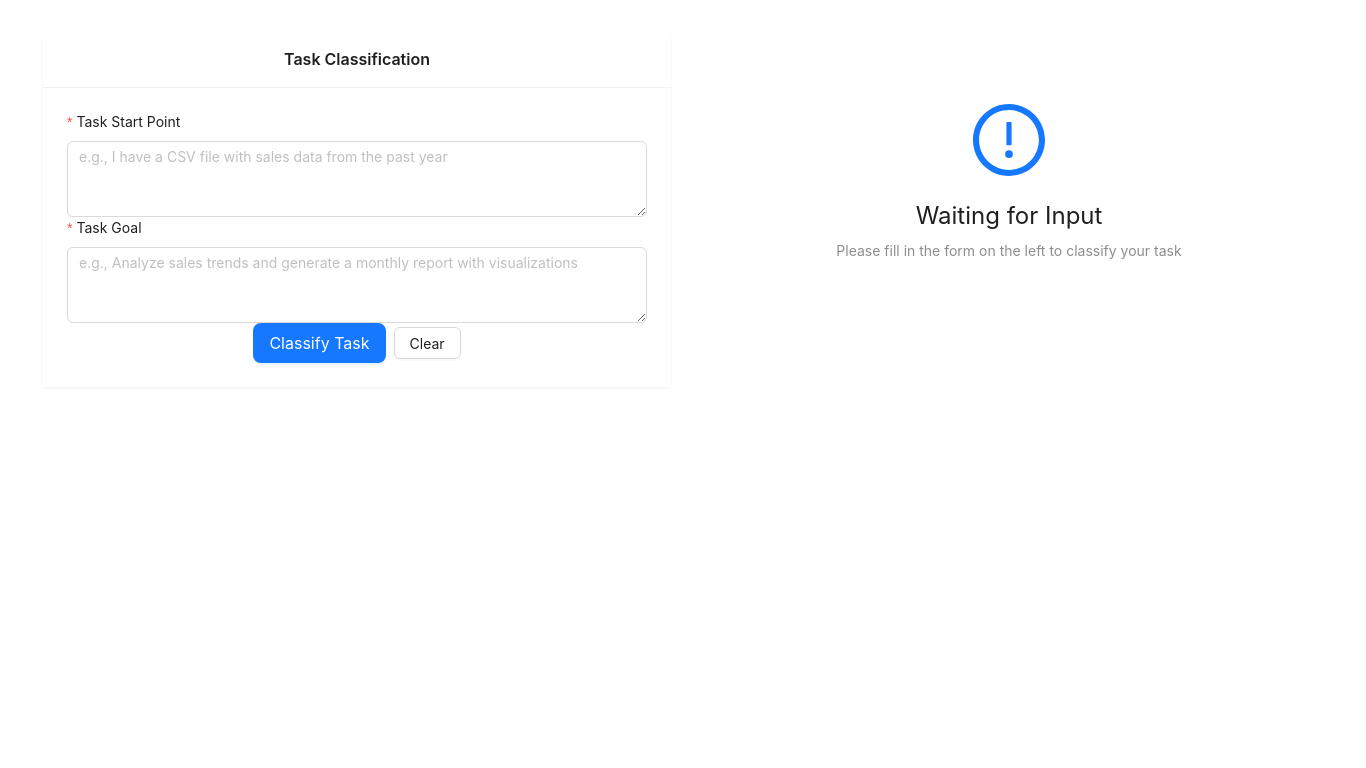
Scenario: TaskClassificationPage › should allow clearing classification results
Type "Start1" into the text box labelled "Task Start Point".
click(357, 179); type("Start1")  # box [67,141,647,217]
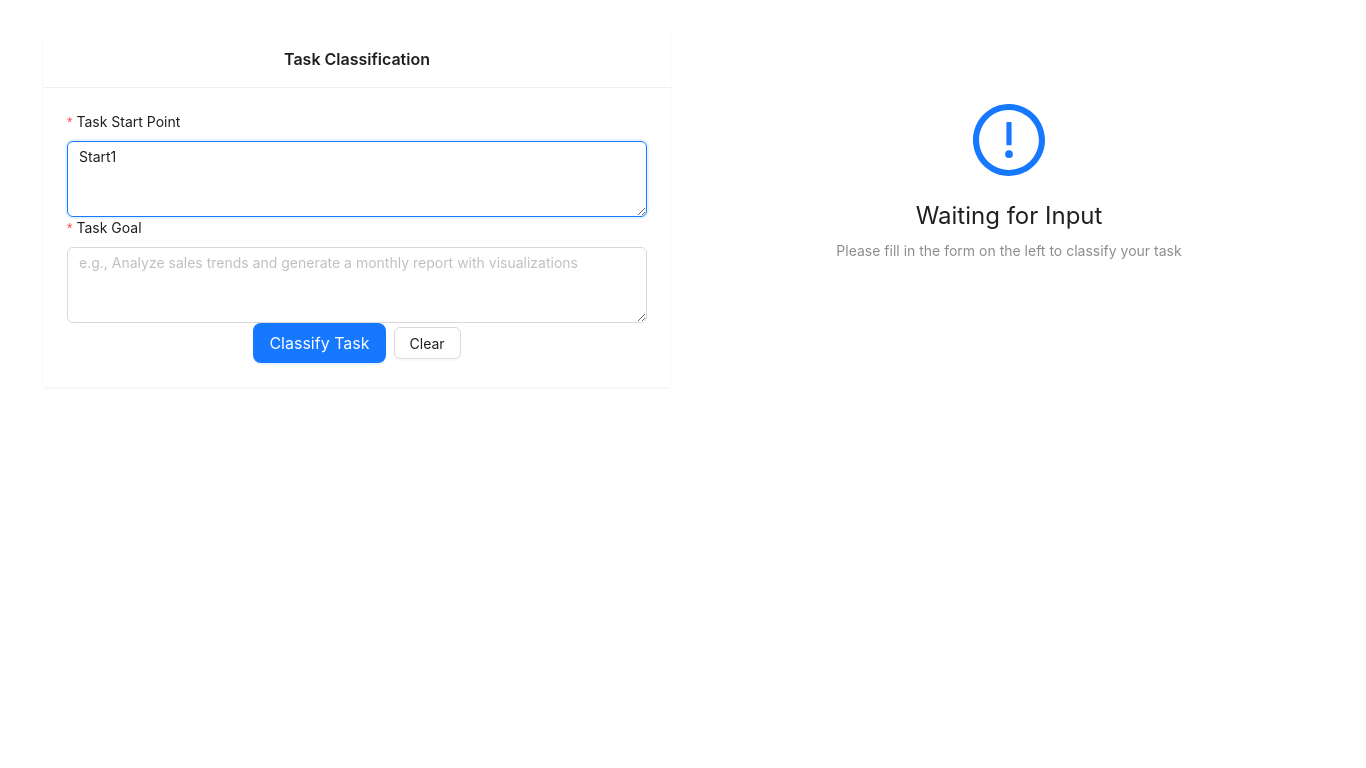
Type "Goal1" into the text box labelled "Task Goal".
click(357, 285); type("Goal1")  # box [67,247,647,323]
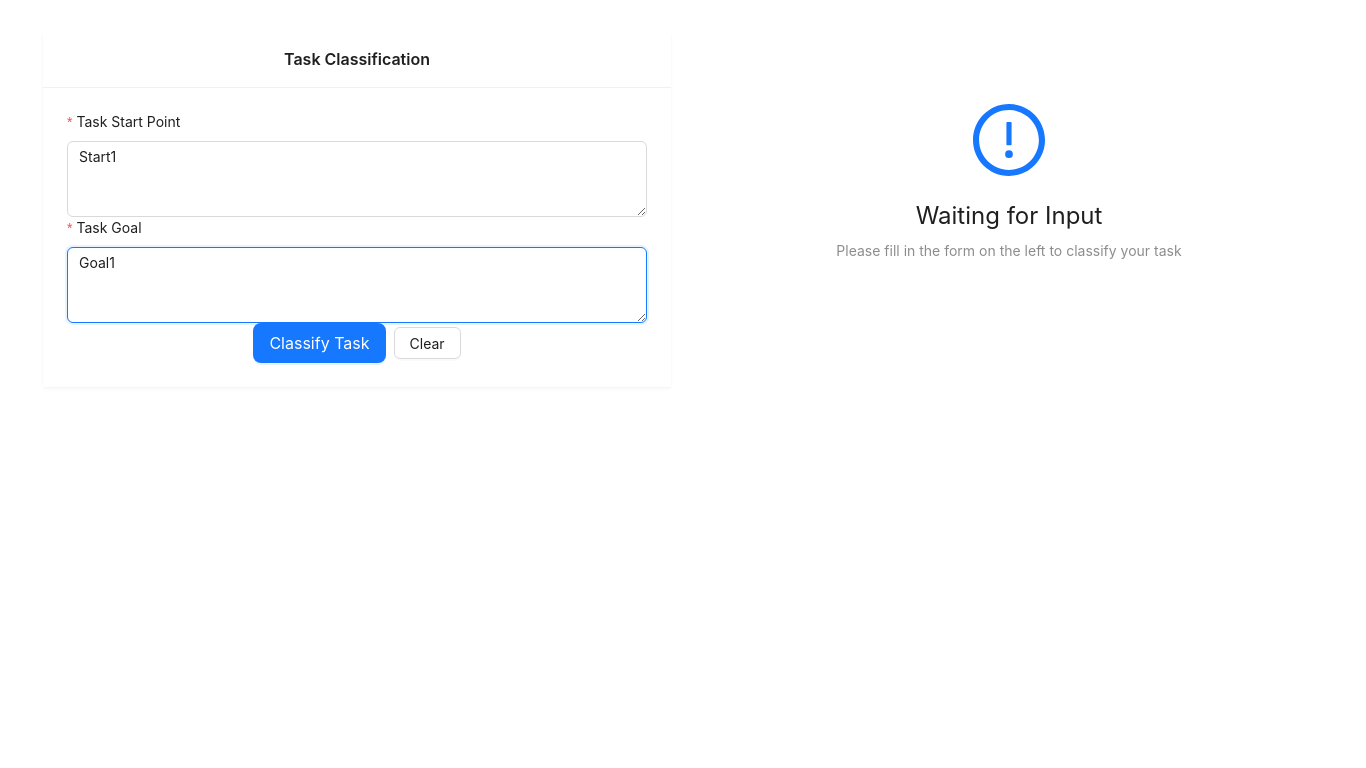
Click the button "Classify Task".
click(319, 343)  # box [253,323,386,363]
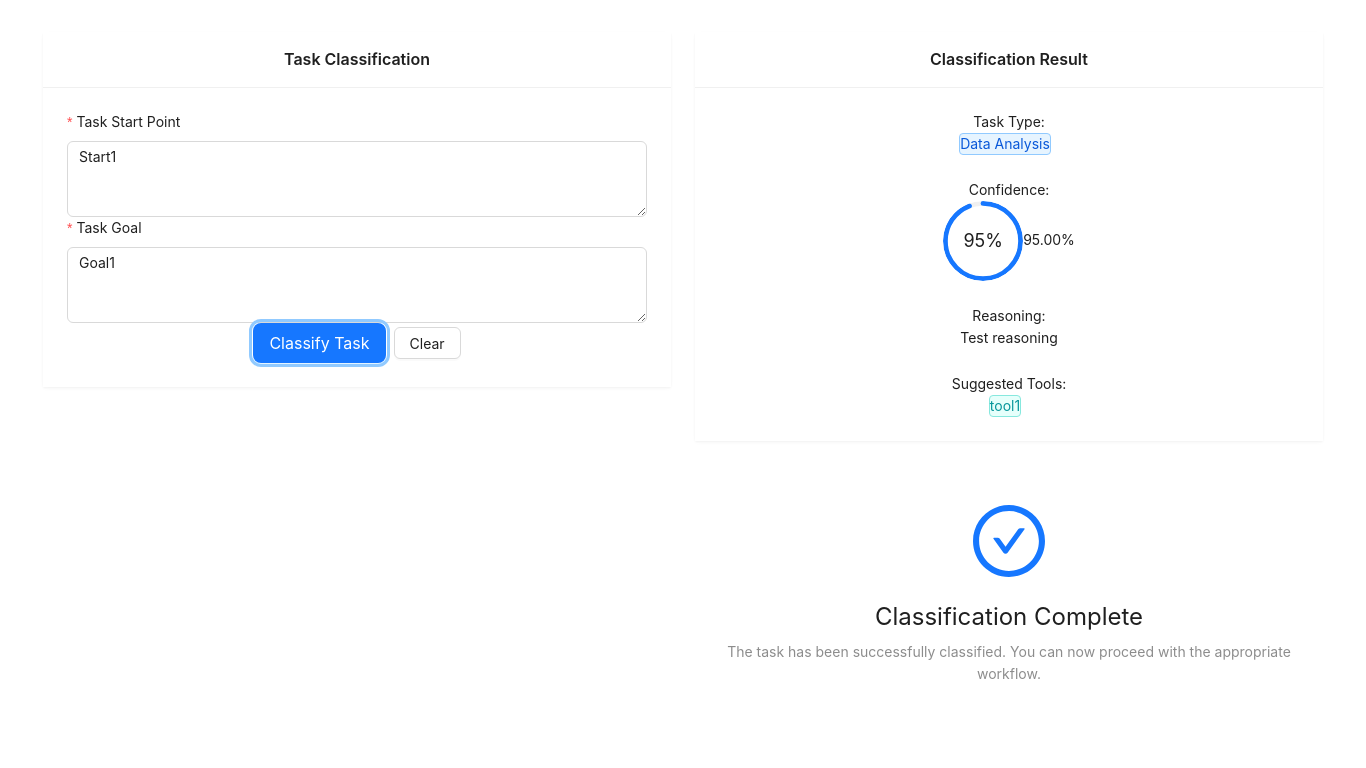
Expected: the text "Data Analysis" is shown, [959,133,1051,155]
Click the button "Clear".
click(427, 343)  # box [394,327,461,359]
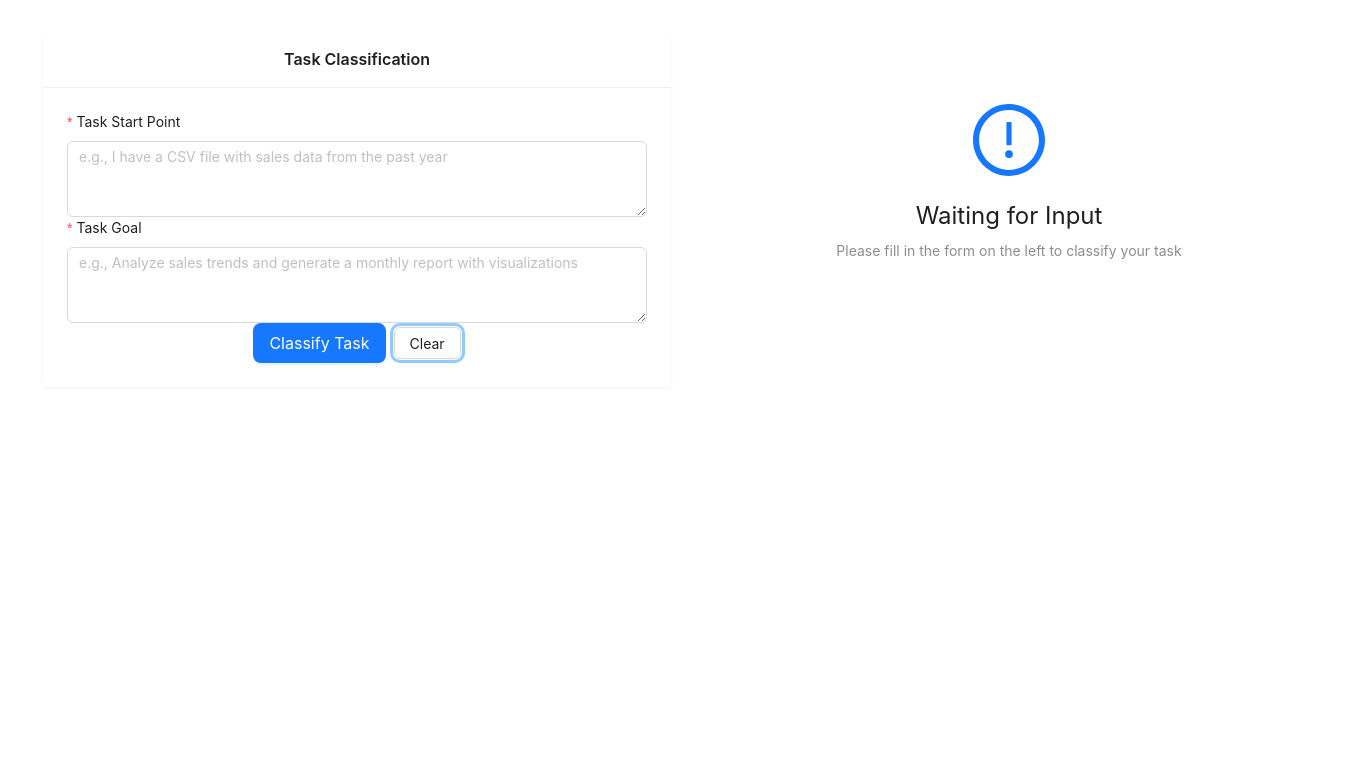
Expected: the text "Waiting for Input" is shown, [916,201,1102,230]
